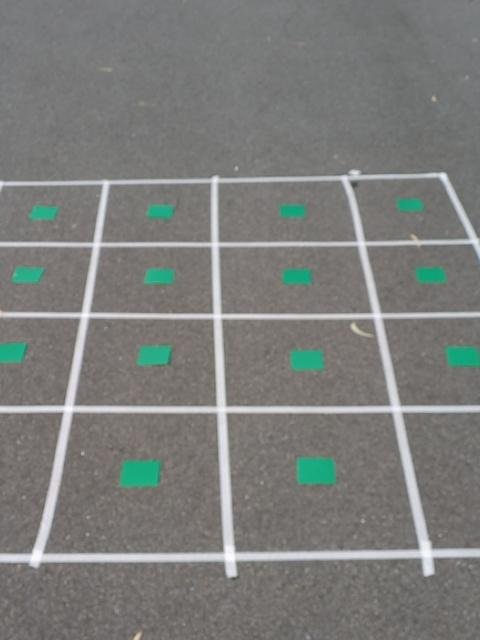weed: (118, 456, 163, 491), (297, 456, 338, 486), (133, 342, 176, 369), (288, 344, 327, 373), (444, 342, 480, 369), (11, 264, 44, 288), (413, 264, 448, 286), (0, 340, 32, 363), (280, 264, 314, 283), (29, 201, 58, 223), (143, 266, 177, 284), (277, 200, 308, 219), (144, 202, 178, 219), (396, 197, 429, 213)
